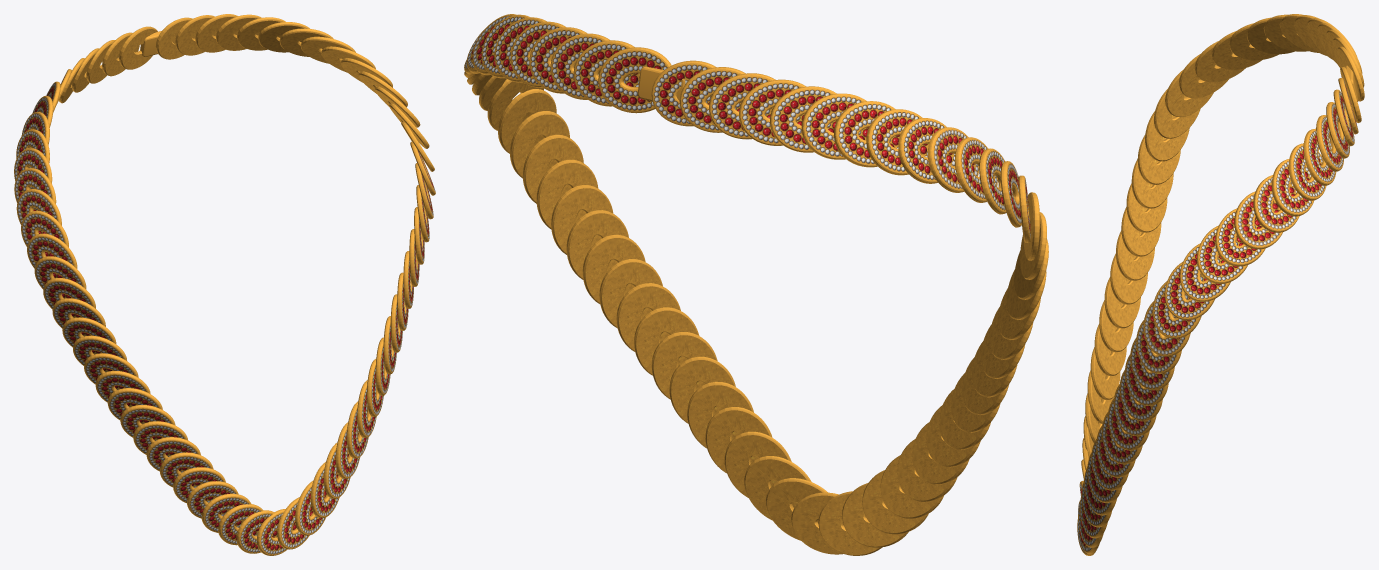
Rendered from ata_chain.obj.
The picture shows the model from 3 angles, left to right: view 1: azimuth 30°, elevation 25°; view 2: azimuth 150°, elevation 25°; view 3: azimuth 270°, elevation 25°; orthographic projection. The views are drawn at different scales.
Visible parts, largest first — view 1: chain_links; view 2: chain_links; view 3: chain_links.
Part boxes in pixels (left/top/right/bottom): chain_links: left=14, top=14, right=435, bottom=555; chain_links: left=464, top=14, right=1048, bottom=555; chain_links: left=1077, top=14, right=1364, bottom=555.
Bounding box in the file's own units: 0.1826 × 0.1937 × 0.1034.
1 material, 1 textured.
